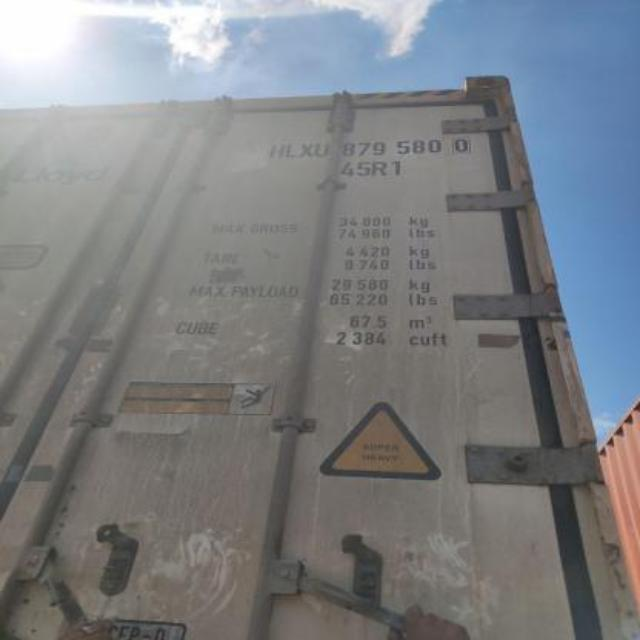0: (450, 134, 470, 160), (425, 134, 445, 158)
5: (393, 136, 411, 160)
7: (355, 134, 373, 158)
8: (340, 133, 356, 163), (410, 134, 426, 156)
9: (371, 136, 389, 158)
H: (269, 139, 285, 163)
L: (286, 138, 298, 162)
U: (314, 137, 330, 161)
X: (300, 138, 314, 162)
